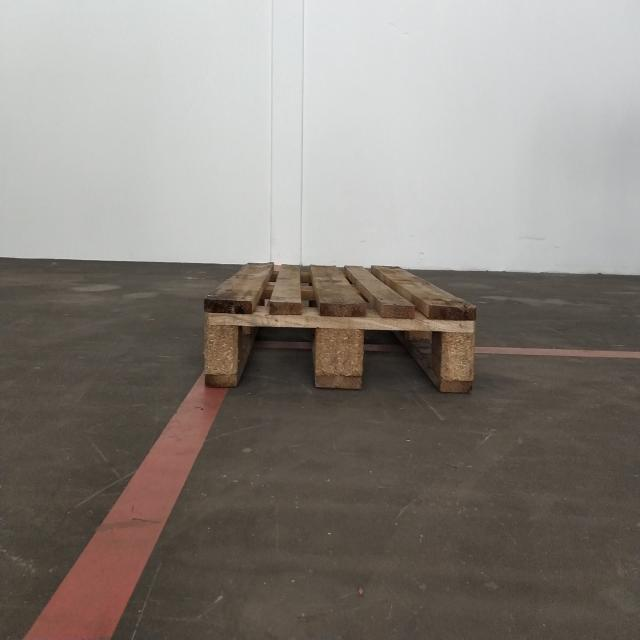block: (314, 307, 366, 392), (436, 305, 482, 395), (200, 295, 240, 388)
front: (204, 293, 478, 396)
